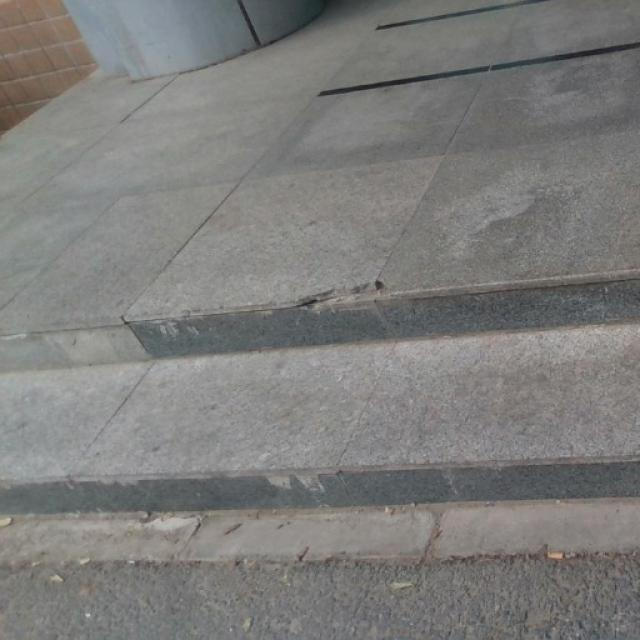Stairs: (0, 267, 639, 565)
